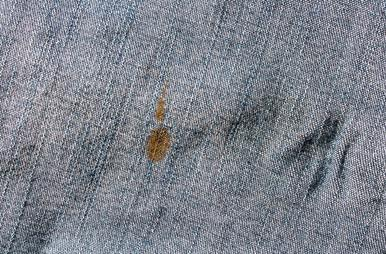gun: (145, 87, 172, 167)
